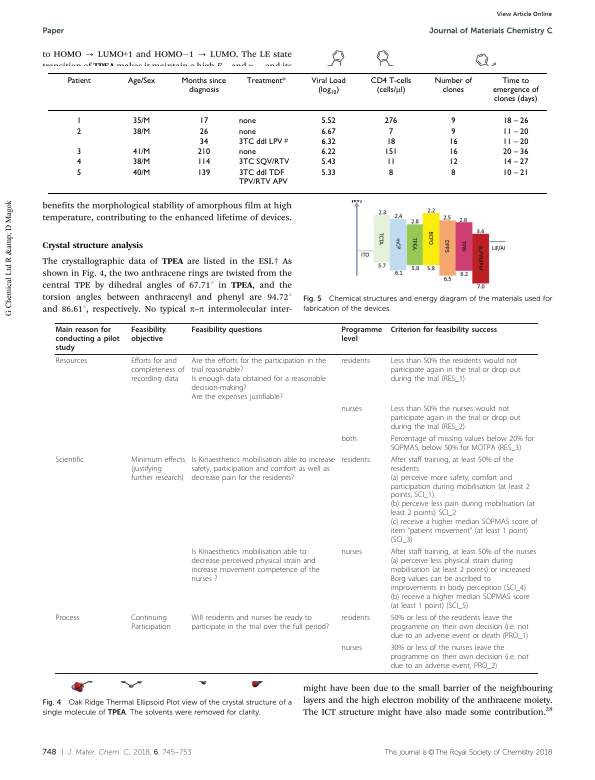borderless: (54, 321, 538, 673), (47, 71, 547, 193)
cell: (390, 455, 538, 545), (390, 547, 537, 611), (190, 356, 327, 401), (190, 547, 320, 584), (190, 455, 336, 482), (390, 613, 530, 641), (390, 643, 530, 671), (390, 356, 521, 384), (390, 404, 521, 431), (190, 613, 330, 632), (390, 434, 535, 452), (55, 325, 120, 352), (130, 356, 185, 384), (130, 455, 186, 482), (491, 75, 539, 104), (390, 325, 498, 334), (238, 167, 288, 186), (369, 74, 412, 96), (180, 75, 226, 94), (130, 613, 172, 632), (340, 325, 383, 343), (310, 75, 346, 96), (433, 75, 472, 94), (130, 325, 167, 343), (190, 325, 263, 334), (238, 157, 290, 167), (238, 136, 288, 146), (245, 75, 286, 85), (55, 356, 88, 366), (340, 356, 371, 366), (340, 613, 371, 623), (126, 75, 156, 85), (54, 455, 85, 464), (340, 455, 371, 464), (502, 116, 529, 126), (502, 126, 529, 136), (502, 147, 529, 157), (502, 157, 529, 167), (502, 167, 529, 177), (54, 613, 80, 623), (66, 75, 91, 85), (502, 137, 529, 146), (340, 547, 363, 557), (340, 643, 363, 653), (340, 404, 363, 413), (132, 116, 151, 126), (132, 126, 151, 136), (132, 147, 151, 157), (132, 157, 151, 167), (132, 167, 151, 177), (238, 116, 256, 126), (238, 126, 256, 136), (238, 147, 256, 157), (340, 434, 358, 443), (320, 116, 336, 126), (320, 126, 336, 136), (320, 147, 336, 157), (320, 157, 336, 167), (320, 167, 336, 177), (383, 116, 398, 126), (196, 147, 211, 157), (383, 147, 398, 157), (196, 157, 211, 167), (196, 167, 211, 177), (320, 137, 336, 146), (198, 116, 209, 126), (198, 126, 209, 136), (385, 157, 396, 167), (448, 147, 458, 157), (448, 157, 458, 167), (198, 137, 209, 146), (385, 137, 396, 146), (448, 137, 458, 146), (387, 126, 394, 136), (387, 167, 394, 177), (76, 116, 82, 126), (450, 116, 456, 126), (76, 126, 82, 136), (450, 126, 456, 136), (76, 147, 82, 157), (76, 157, 82, 167), (76, 167, 82, 177), (450, 167, 456, 177)
